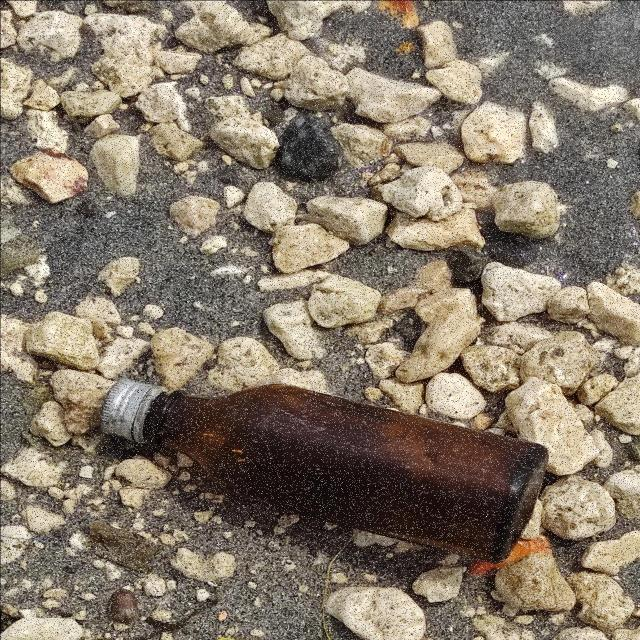glass_waste: (99, 380, 551, 565)
